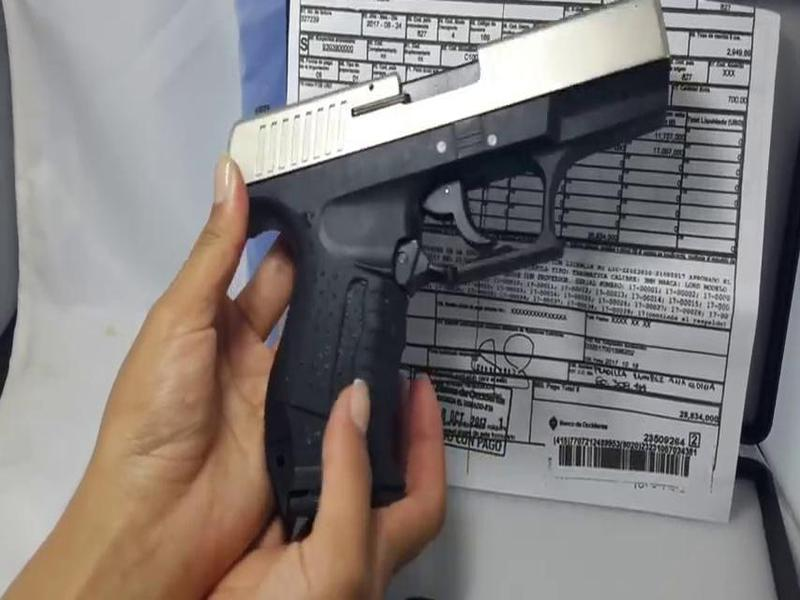Pistola: (193, 32, 675, 532)
